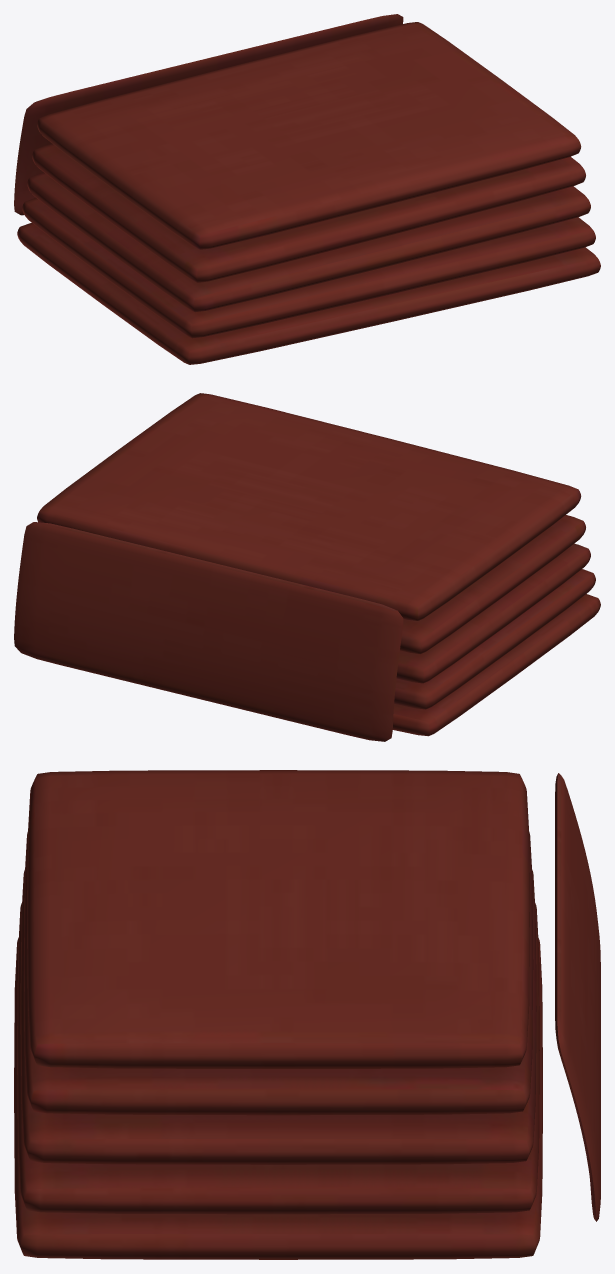
Rendered from wool_bolt.glb.
The picture shows the model from 3 angles, top to bottom: view 1: azimuth 30°, elevation 25°; view 2: azimuth 150°, elevation 25°; view 3: azimuth 270°, elevation 25°; orthographic projection. The views are drawn at different scales.
Visible parts, largest first — view 1: wool_bolt; view 2: wool_bolt; view 3: wool_bolt.
Part boxes in pixels (bbox=[...]): wool_bolt: bbox=[14, 14, 600, 364]; wool_bolt: bbox=[14, 393, 600, 741]; wool_bolt: bbox=[14, 770, 600, 1259].
Size of the model in its own units: 0.2197 by 0.0713 by 0.1772.
1 material, 1 textured.
